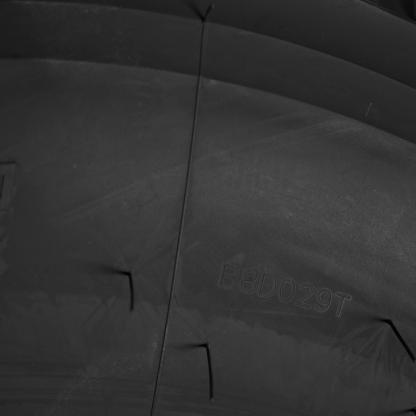ocr: (217, 259, 353, 319)
